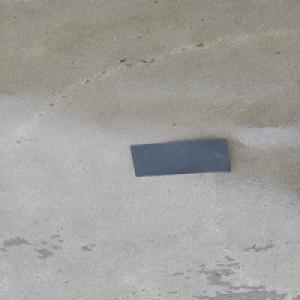PaintChip: (129, 137, 232, 177)
